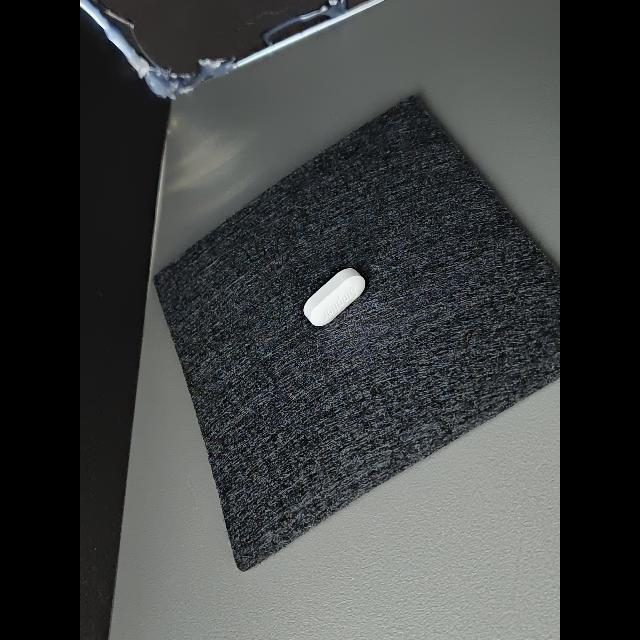Intact Pill: (303, 268, 365, 326)
